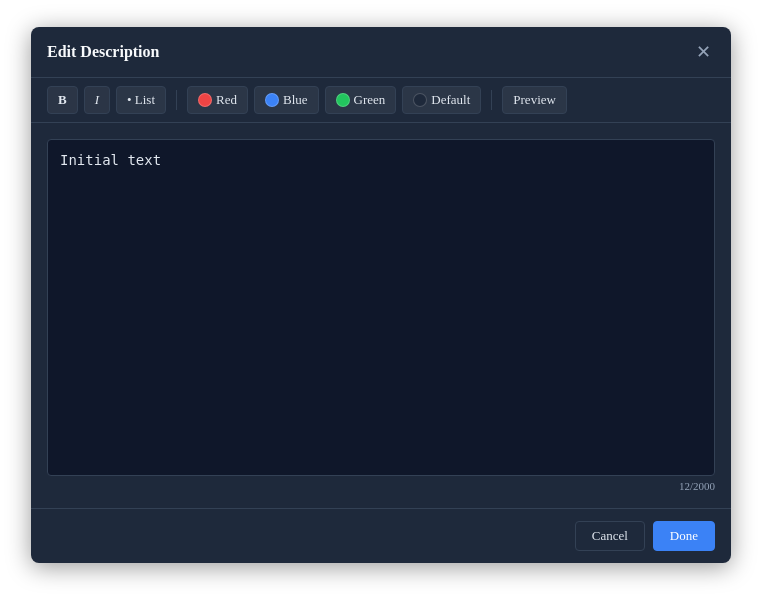
DescriptionModal › preview mode › shows Edit button when in preview mode
Click the button with test id "toolbar-preview-toggle".
click(535, 100)  # box x1=502 y1=86 x2=567 y2=114
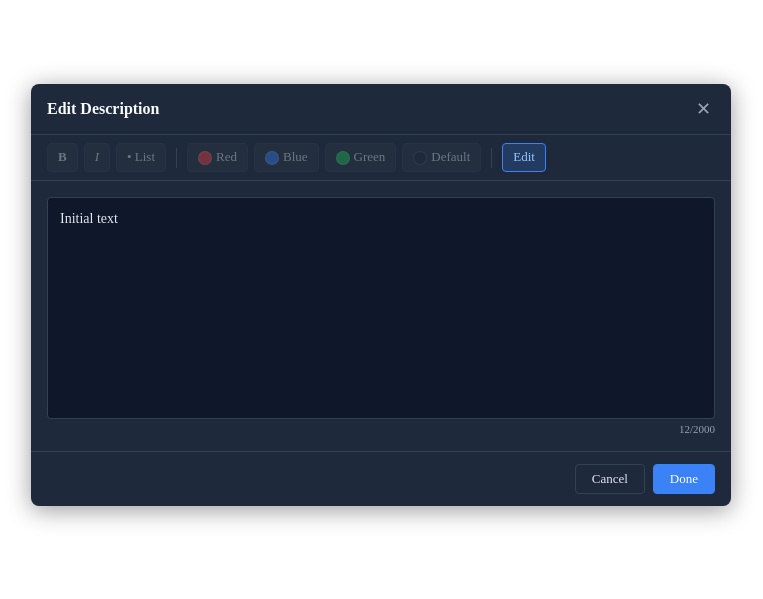
Now the button with test id "toolbar-preview-toggle" reads "Edit", box x1=502 y1=143 x2=546 y2=172
